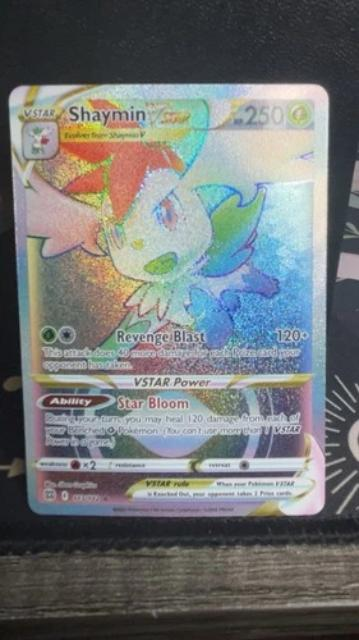Card: (5, 80, 332, 522)
Name: (65, 100, 198, 131)
